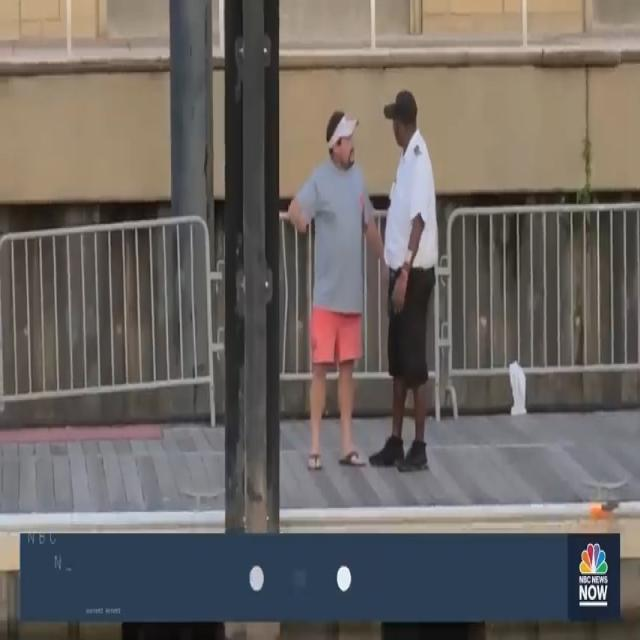non-fight: (290, 88, 440, 478)
